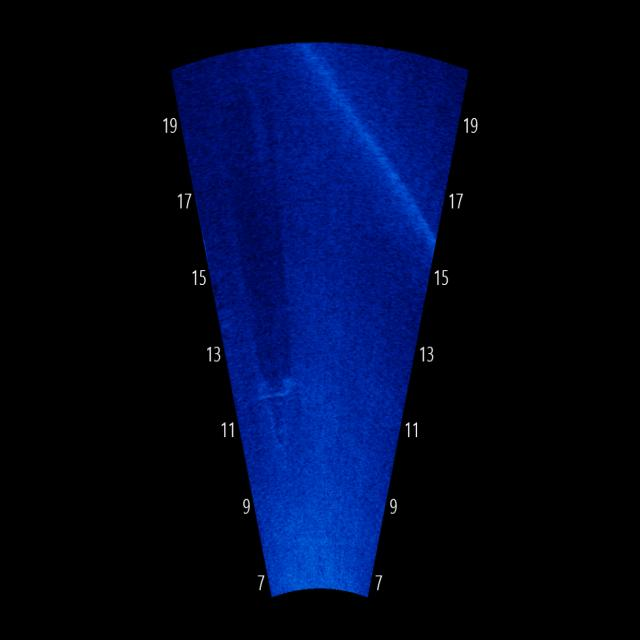triangle: (256, 380, 300, 460)
